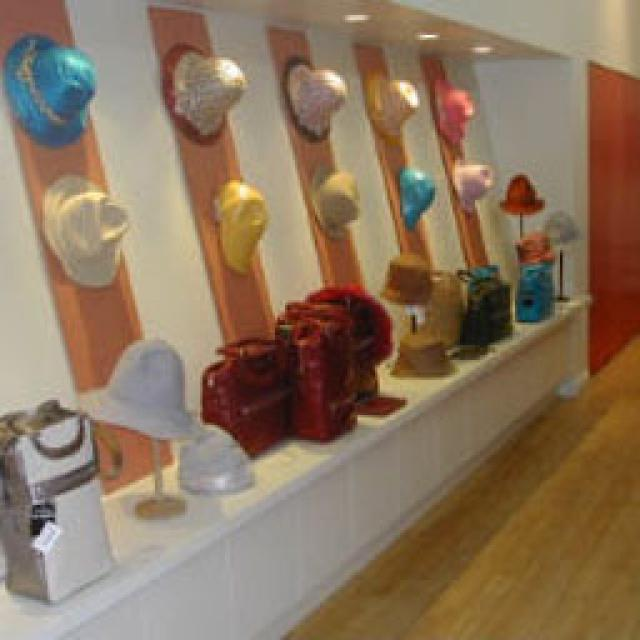bag occluded: (0, 395, 115, 602)
box contants: (272, 300, 355, 435)
ceiling beam: (157, 0, 568, 60)
floor -X: (282, 328, 635, 638)
hat: (75, 335, 192, 438), (2, 30, 95, 145), (42, 172, 130, 285), (158, 42, 240, 135), (280, 58, 345, 138), (215, 175, 268, 270), (178, 425, 248, 490), (308, 160, 358, 238), (365, 72, 415, 138), (430, 72, 475, 145), (390, 330, 458, 372), (378, 250, 428, 302), (448, 158, 490, 208), (398, 165, 432, 225), (498, 170, 542, 212)
lamp crop: (465, 40, 492, 52), (412, 30, 435, 40), (340, 10, 362, 20)
purse occluded: (200, 332, 288, 458)
step: (0, 288, 570, 635)
wall clock: (398, 0, 635, 382)
